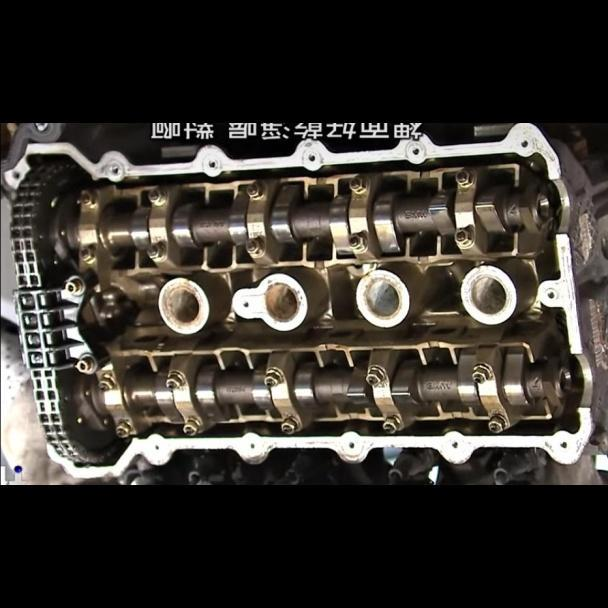hole: (517, 136, 527, 146), (544, 288, 555, 297), (449, 438, 459, 447), (410, 146, 420, 155), (108, 164, 118, 173), (345, 439, 356, 447), (206, 158, 215, 167), (305, 152, 315, 160), (557, 439, 566, 447), (247, 442, 255, 449), (152, 443, 161, 449)
